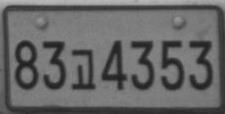3: (188, 39, 214, 89), (130, 39, 154, 90), (42, 40, 66, 89)
4: (101, 39, 127, 90)
5: (160, 39, 185, 90)
8: (13, 39, 39, 89)
고: (70, 49, 96, 90)
